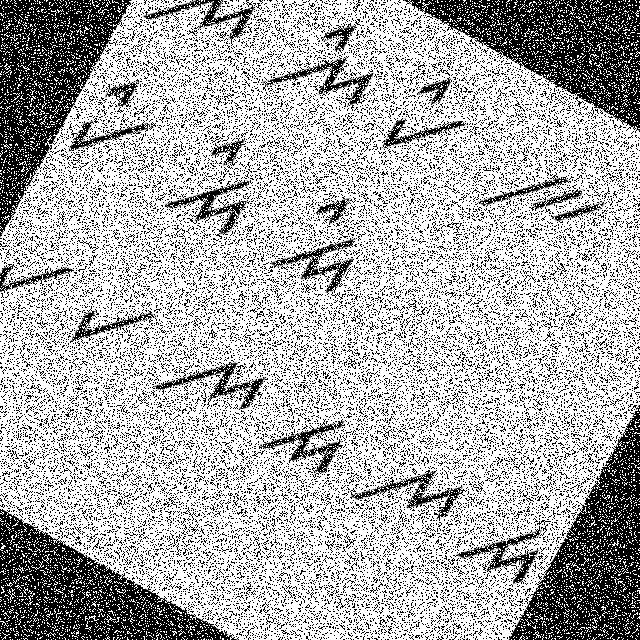da: (446, 494, 552, 600), (258, 388, 360, 488)
di: (256, 168, 394, 310), (157, 116, 279, 250)
na: (142, 318, 278, 445), (341, 429, 472, 554)
ni: (253, 0, 399, 147), (132, 0, 279, 73)
pa: (57, 274, 175, 388), (0, 227, 83, 337)
pi: (59, 59, 174, 183), (373, 58, 486, 184)
